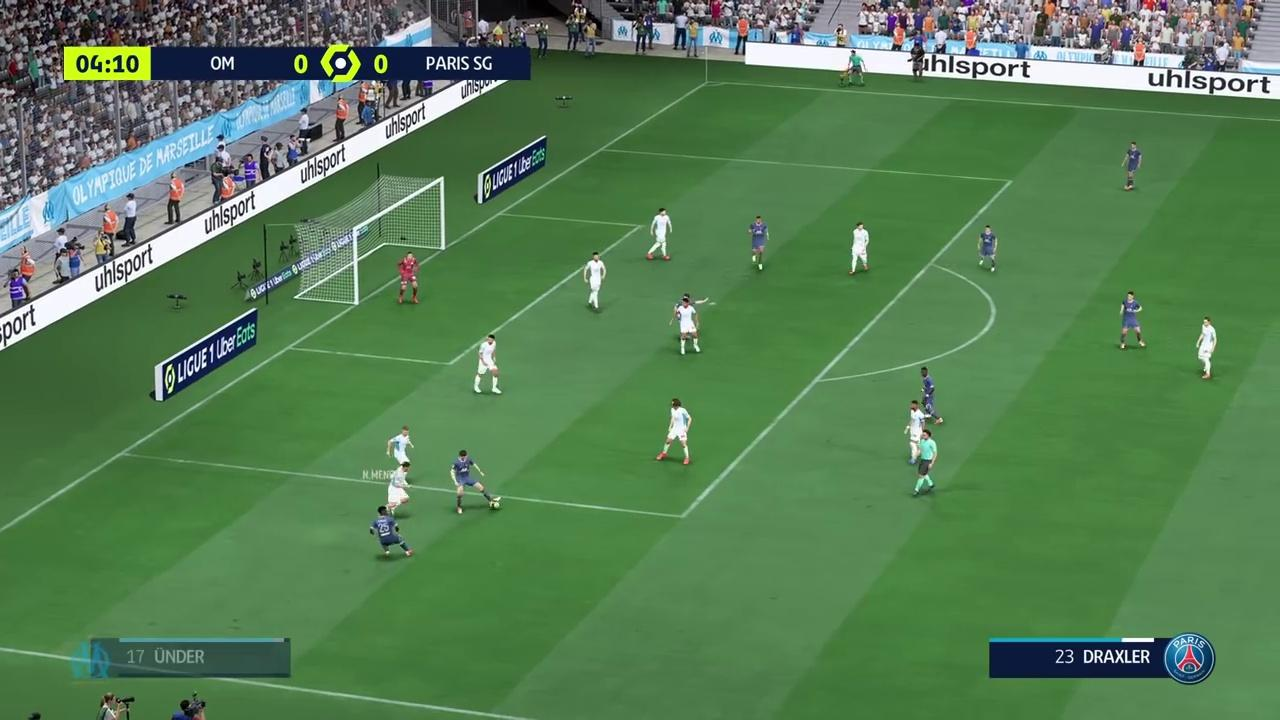scoreboard: (163, 46, 532, 82)
timestamp: (58, 45, 156, 80)
